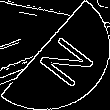N_NW: (20, 23, 90, 87)
